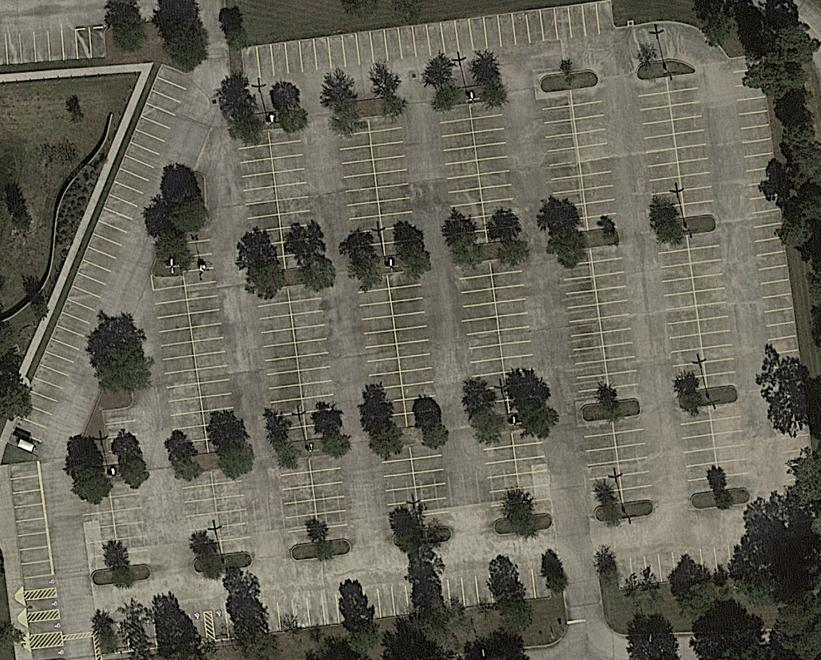parkingspot: (10, 63, 195, 443), (729, 54, 813, 490), (241, 0, 617, 82), (261, 565, 552, 633), (181, 225, 239, 455), (151, 285, 209, 459), (455, 259, 511, 421), (654, 234, 709, 394), (287, 283, 342, 442), (589, 243, 643, 404), (255, 285, 309, 445), (686, 229, 739, 390), (387, 271, 441, 429), (357, 272, 409, 433), (489, 258, 541, 417), (561, 247, 612, 408), (366, 112, 420, 259), (666, 71, 719, 219), (436, 103, 489, 250), (569, 84, 621, 233), (267, 125, 319, 272), (635, 75, 686, 224), (538, 88, 589, 237), (335, 117, 387, 263), (236, 129, 287, 275), (468, 101, 519, 245), (7, 459, 57, 593), (614, 542, 748, 590), (0, 22, 108, 66), (611, 413, 657, 505), (479, 431, 525, 522), (708, 400, 753, 493), (677, 404, 722, 497), (581, 417, 625, 510), (308, 452, 352, 544), (277, 457, 321, 548), (180, 470, 224, 561), (510, 429, 555, 517), (108, 478, 151, 568), (210, 467, 253, 556), (409, 443, 452, 531), (380, 445, 422, 535), (79, 496, 121, 573), (102, 405, 142, 454), (174, 609, 208, 645), (211, 605, 245, 641), (111, 619, 131, 654), (138, 617, 158, 651), (27, 617, 62, 636), (25, 596, 59, 614), (31, 645, 66, 659)
